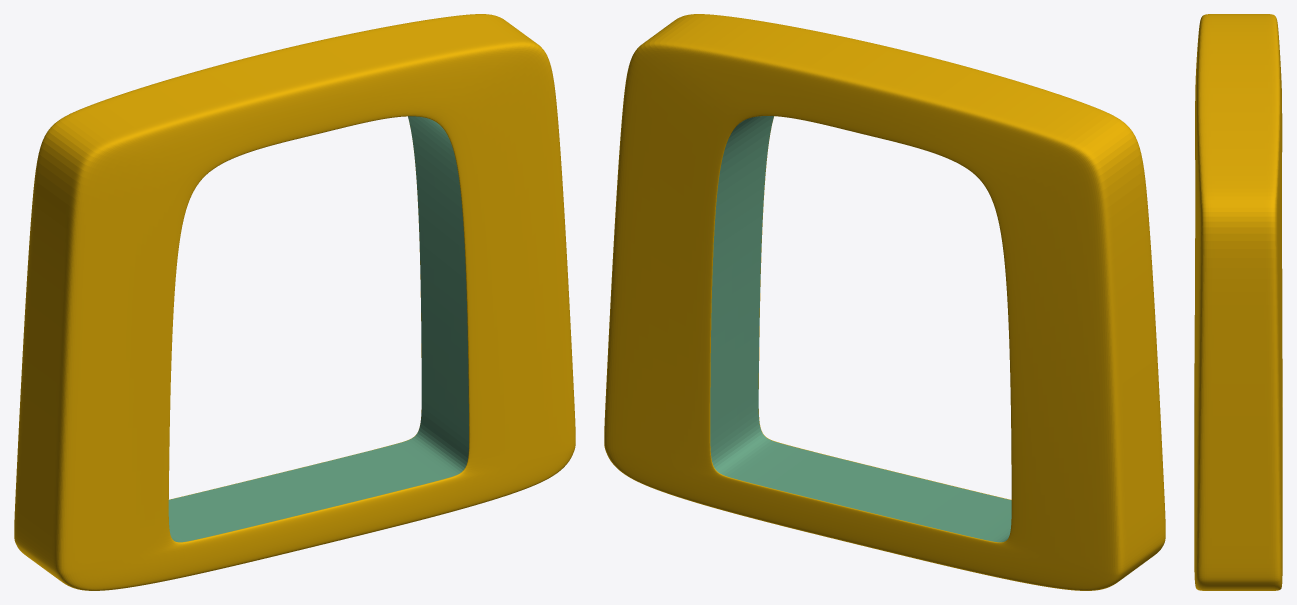
Rendered from 2_materials_test.fbx.
3 renders of one model, left to right at view 1: azimuth 30°, elevation 25°; view 2: azimuth 150°, elevation 25°; view 3: azimuth 270°, elevation 25°, orthographic. The views are drawn at different scales.
Visible parts, largest first — view 1: Cube.001; view 2: Cube.001; view 3: Cube.001.
Boxes of the visible parts, left/top/right/bottom form: Cube.001: left=14, top=14, right=575, bottom=590; Cube.001: left=604, top=14, right=1165, bottom=590; Cube.001: left=1194, top=14, right=1282, bottom=590.
Bounding box in the file's own units: 526 × 448 × 88.15.
